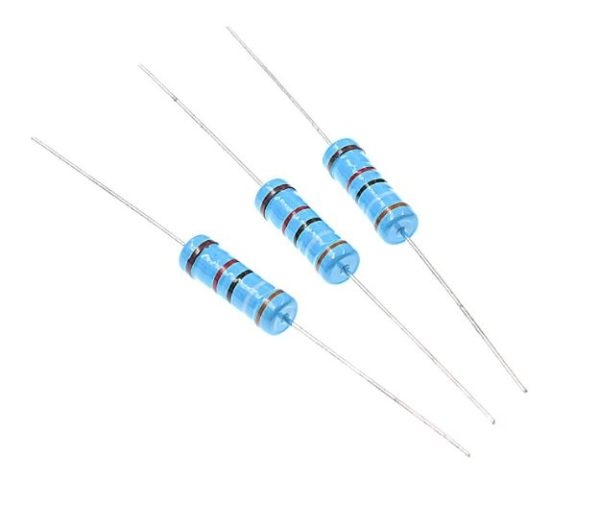resistor: (157, 215, 315, 352), (237, 161, 375, 302), (304, 120, 436, 266)
